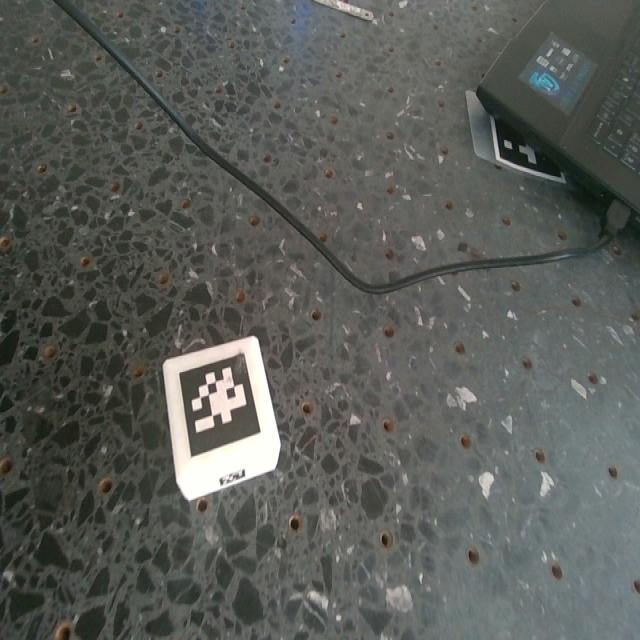Cube: (161, 339, 281, 504)
